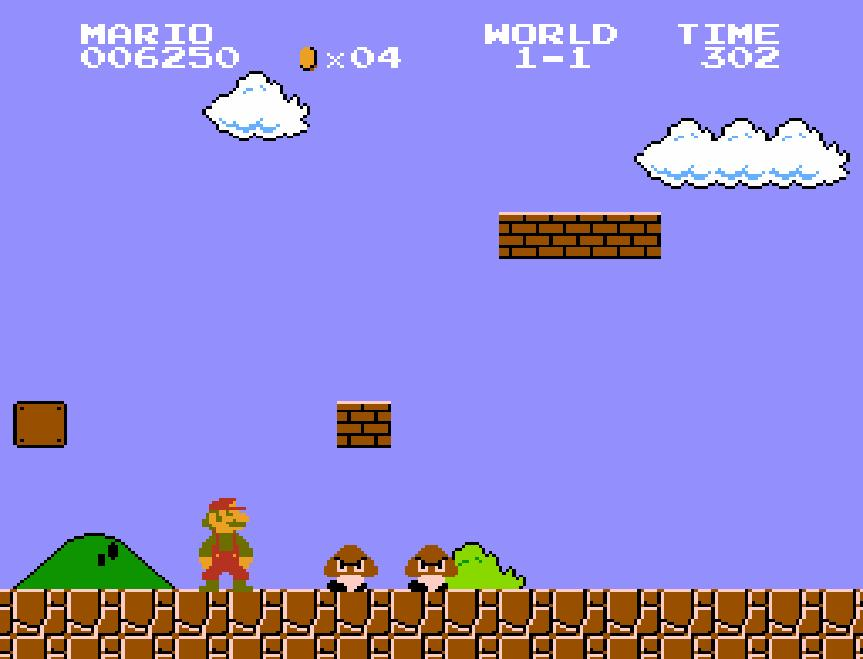big_mario: (196, 496, 254, 594)
